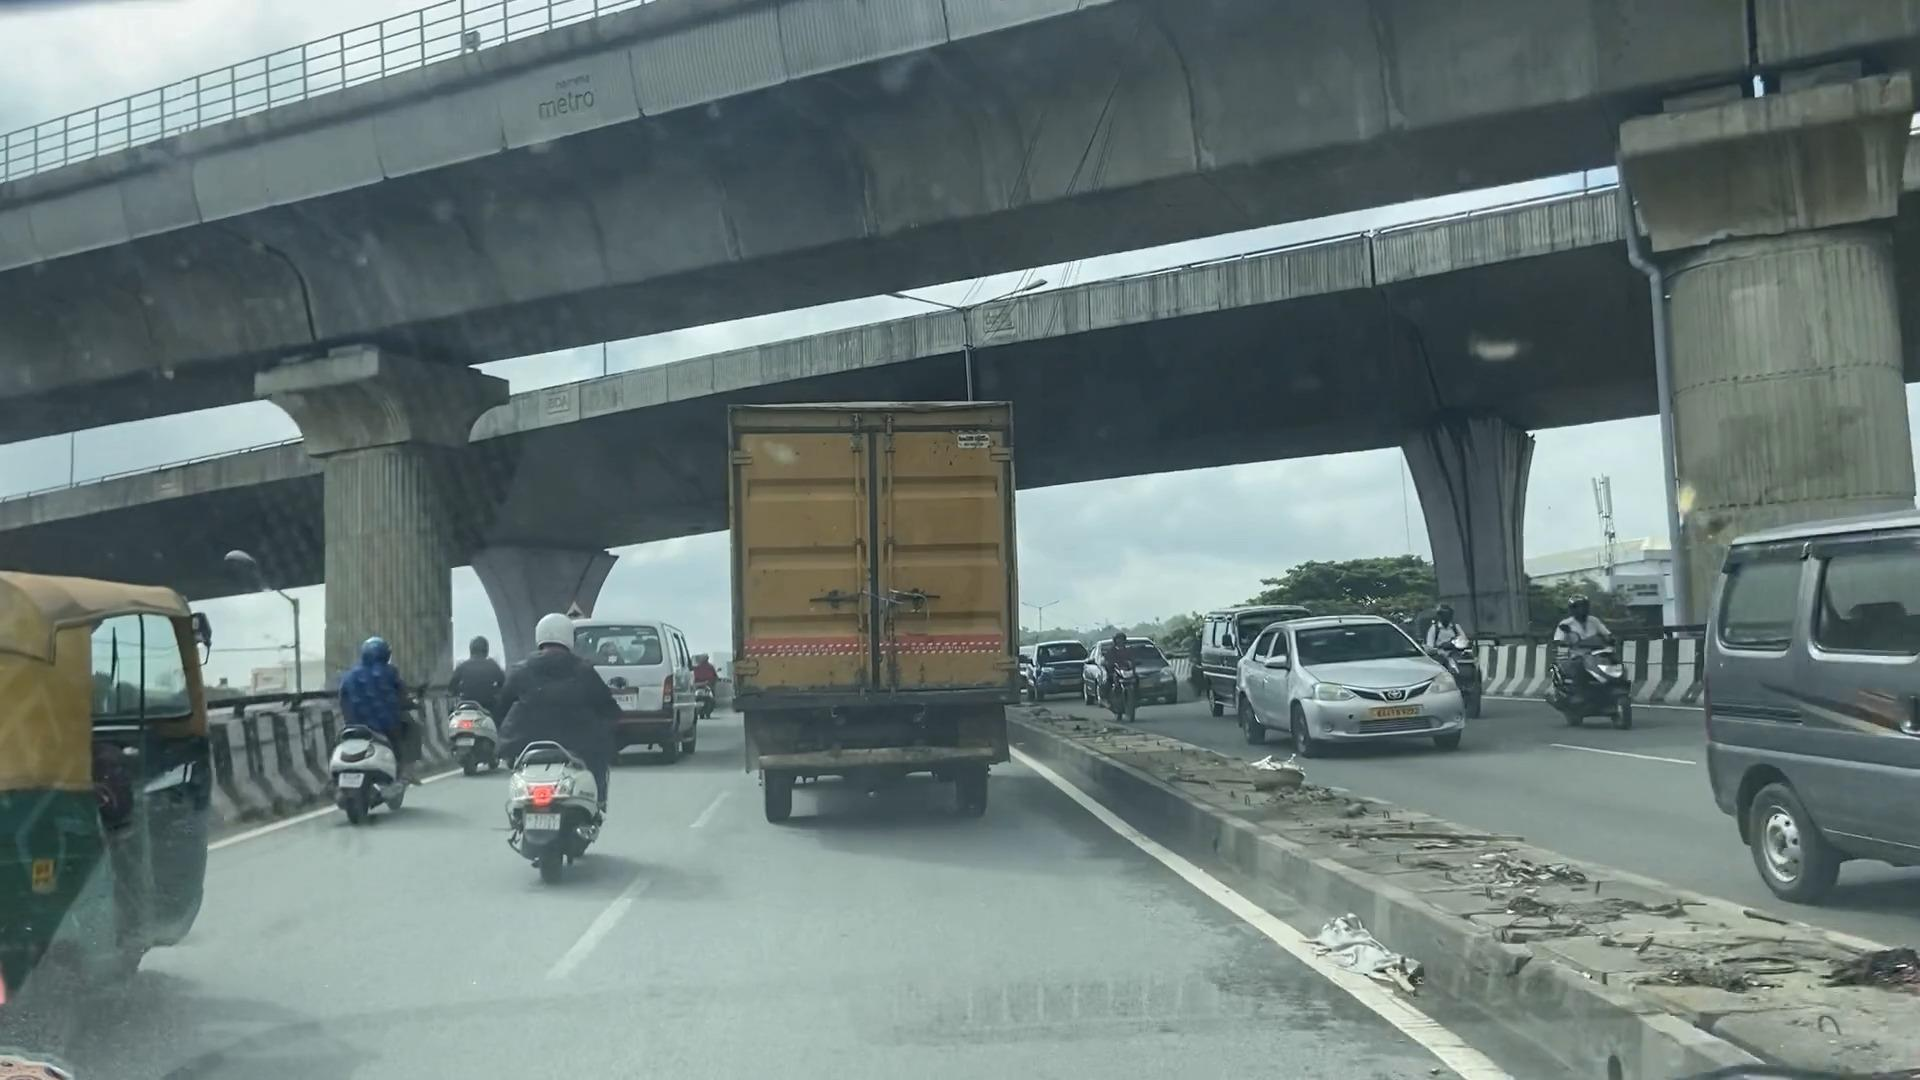HMV: (727, 393, 1026, 828)
LMV: (504, 611, 616, 869), (343, 626, 406, 806)
